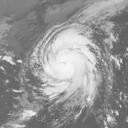cyclone: (28, 21, 108, 108)
